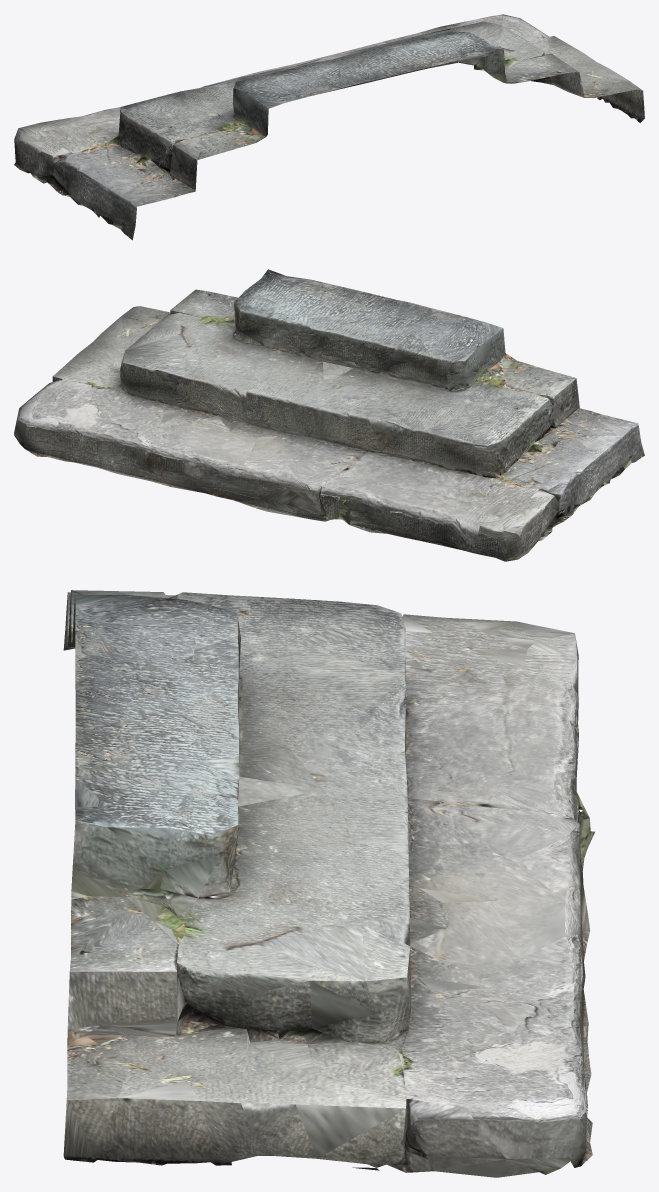
Rendered from Wall_01.fbx.
3 views of the same model, one above another, from view 1: azimuth 30°, elevation 25°; view 2: azimuth 150°, elevation 25°; view 3: azimuth 270°, elevation 25° (orthographic). The views are drawn at different scales.
Parts seen in each view (by area): view 1: get34; view 2: get34; view 3: get34.
Boxes of the visible parts, left/top/right/bottom form: get34: left=14, top=14, right=644, bottom=240; get34: left=14, top=269, right=644, bottom=561; get34: left=63, top=590, right=594, bottom=1177.
Bounding box in the file's own units: 443 × 98.31 × 199.
